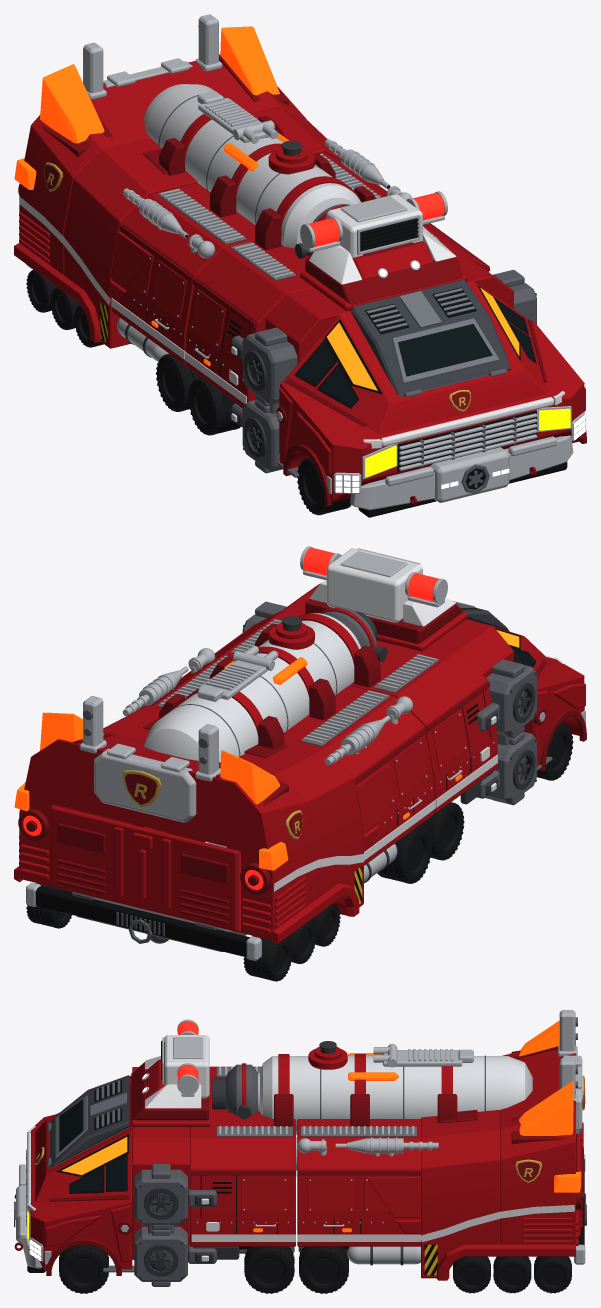
File: rescue_striker.glb
The picture shows the model from 3 angles, top to bottom: view 1: azimuth 30°, elevation 25°; view 2: azimuth 150°, elevation 25°; view 3: azimuth 270°, elevation 25°; orthographic projection. The views are drawn at different scales.
Parts seen in each view (by area): view 1: R_HaunchA, R_HaunchB, Cannon_Tank, F_Greenhouse, F_LowerBody, F_MidBody, R_MidBody, Ramp_Cowl, F_Tower_R, F_TowerBay, R_Fin_R, Hatch_Base (+54 smaller); view 2: R_HaunchB, Door_Panel, Cannon_Tank, R_HaunchA, F_MidBody, R_MidBody, F_Tower_R, R_Crest, R_Step, Hatch_WhiteBox, Door_Ribs, F_TowerBay (+52 smaller); view 3: Cannon_Tank, R_HaunchA, F_MidBody, R_HaunchB, R_MidBody, F_Tower_L, F_LowerBody, F_Greenhouse, F_TowerBay, Ramp_Cowl, Wheel_1_L_Tire, Wheel_2_L_Tire (+59 smaller).
Boxes of the visible parts, bbox=[...] form: R_HaunchA: bbox=[64, 107, 340, 348]; R_HaunchB: bbox=[19, 60, 307, 274]; Cannon_Tank: bbox=[144, 84, 360, 248]; F_Greenhouse: bbox=[283, 281, 547, 434]; F_LowerBody: bbox=[280, 321, 584, 501]; F_MidBody: bbox=[186, 223, 488, 407]; R_MidBody: bbox=[112, 152, 386, 364]; Ramp_Cowl: bbox=[352, 279, 509, 395]; F_Tower_R: bbox=[232, 327, 297, 473]; F_TowerBay: bbox=[265, 252, 513, 363]; R_Fin_R: bbox=[40, 64, 104, 143]; Hatch_Base: bbox=[305, 256, 462, 304]; R_HaunchB: bbox=[19, 730, 317, 940]; Door_Panel: bbox=[50, 805, 238, 931]; Cannon_Tank: bbox=[144, 613, 360, 762]; R_HaunchA: bbox=[95, 705, 363, 915]; F_MidBody: bbox=[215, 608, 497, 813]; R_MidBody: bbox=[141, 655, 434, 865]; F_Tower_R: bbox=[477, 659, 536, 805]; R_Crest: bbox=[94, 748, 196, 822]; R_Step: bbox=[35, 886, 249, 956]; Hatch_WhiteBox: bbox=[326, 548, 422, 622]; Door_Ribs: bbox=[57, 823, 228, 924]; F_TowerBay: bbox=[285, 584, 513, 677]; Cannon_Tank: bbox=[260, 1056, 532, 1135]; R_HaunchA: bbox=[421, 1110, 500, 1278]; F_MidBody: bbox=[190, 1066, 295, 1246]; R_HaunchB: bbox=[500, 1040, 575, 1244]; R_MidBody: bbox=[297, 1119, 420, 1246]; F_Tower_L: bbox=[134, 1164, 216, 1286]; F_LowerBody: bbox=[30, 1114, 132, 1270]; F_Greenhouse: bbox=[35, 1076, 132, 1201]; F_TowerBay: bbox=[132, 1067, 189, 1259]; Ramp_Cowl: bbox=[50, 1075, 129, 1167]; Wheel_1_L_Tire: bbox=[244, 1246, 294, 1293]; Wheel_2_L_Tire: bbox=[299, 1246, 348, 1293].
Bounding box in the file's own units: 7.04 × 6.05 × 15.14.
